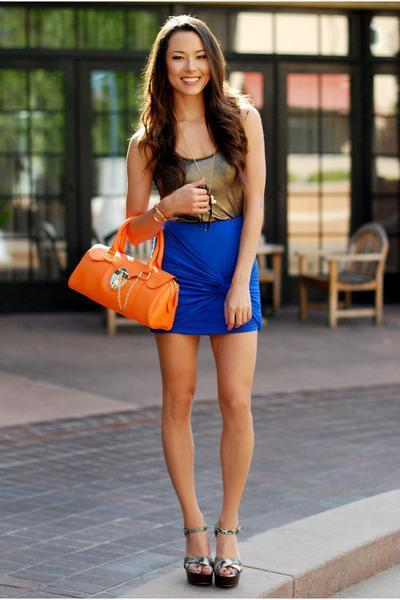bag: (68, 222, 178, 329)
shirt: (156, 128, 248, 227)
shoe: (184, 564, 239, 589)
skirt: (161, 214, 262, 334)
